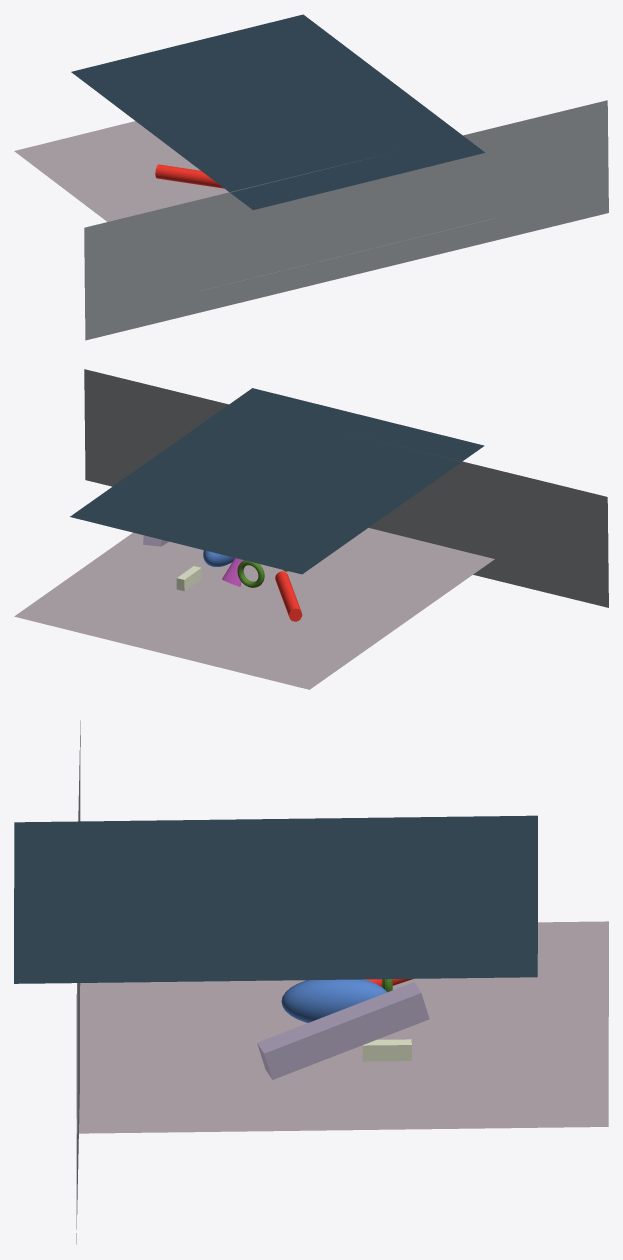
The picture shows the model from 3 angles, top to bottom: view 1: azimuth 30°, elevation 25°; view 2: azimuth 150°, elevation 25°; view 3: azimuth 270°, elevation 25°; orthographic projection. The views are drawn at different scales.
Parts seen in each view (by area): view 1: back_栅格, sky_平面.002, plane_平面.001, cylinder_柱体; view 2: sky_平面.002, plane_平面.001, back_栅格, cylinder_柱体, cube_立方体.001, circle_环体; view 3: sky_平面.002, plane_平面.001, cuboid_立方体, sphere_球体, cube_立方体.001, back_栅格.
Part boxes in pixels (x1,y1,x2,y2): back_栅格: (84, 100, 608, 340); sky_平面.002: (71, 14, 485, 210); plane_平面.001: (14, 121, 492, 291); cylinder_柱体: (155, 164, 223, 188); sky_平面.002: (70, 388, 484, 574); plane_平面.001: (14, 528, 494, 689); back_栅格: (84, 369, 608, 607); cylinder_柱体: (275, 571, 302, 621); cube_立方体.001: (176, 566, 201, 591); circle_环体: (237, 560, 264, 587); sky_平面.002: (14, 815, 537, 983); plane_平面.001: (76, 921, 608, 1133); cuboid_立方体: (257, 982, 429, 1079); sphere_球体: (281, 979, 386, 1022); cube_立方体.001: (362, 1039, 411, 1061); back_栅格: (76, 720, 80, 1244).
Bounding box in the file's own units: 1083 × 230 × 743.
